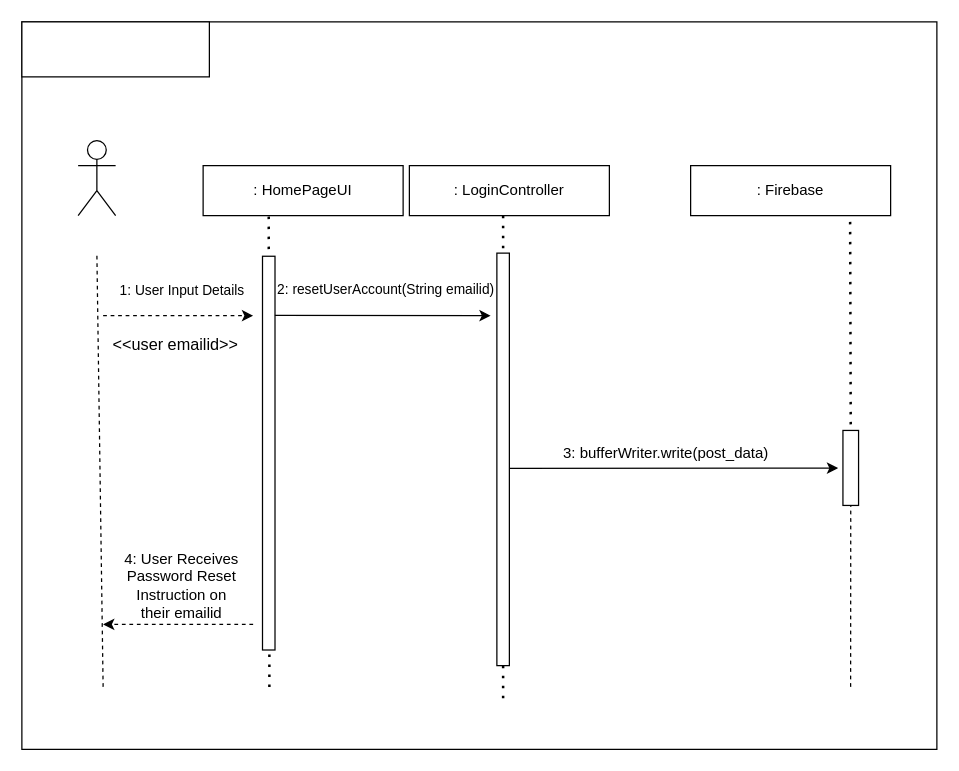
The diagram is 959 pixels wide and 771 high, and some of its shapes have lost their labels. Each missing label, with the box of its shape:
sd Reset Password: (21, 21, 209, 77)
User: (77, 139, 116, 216)
